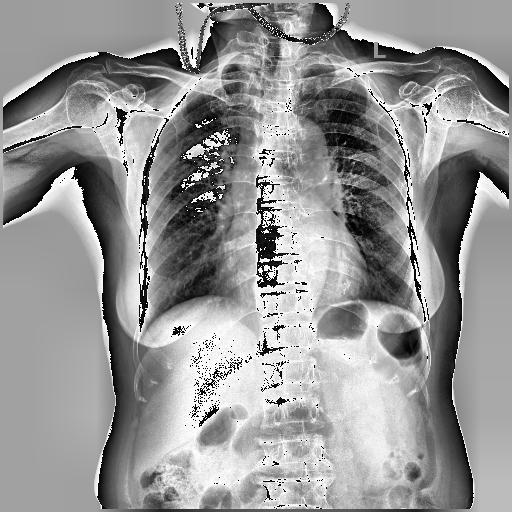0- Aortic enlargement: (270, 111, 332, 185), (275, 112, 330, 190), (277, 116, 329, 172)
11- Pleural thickening: (210, 64, 258, 74), (307, 62, 346, 70)
3- Cardiomegaly: (212, 235, 365, 302), (213, 244, 369, 300), (216, 253, 369, 304)
